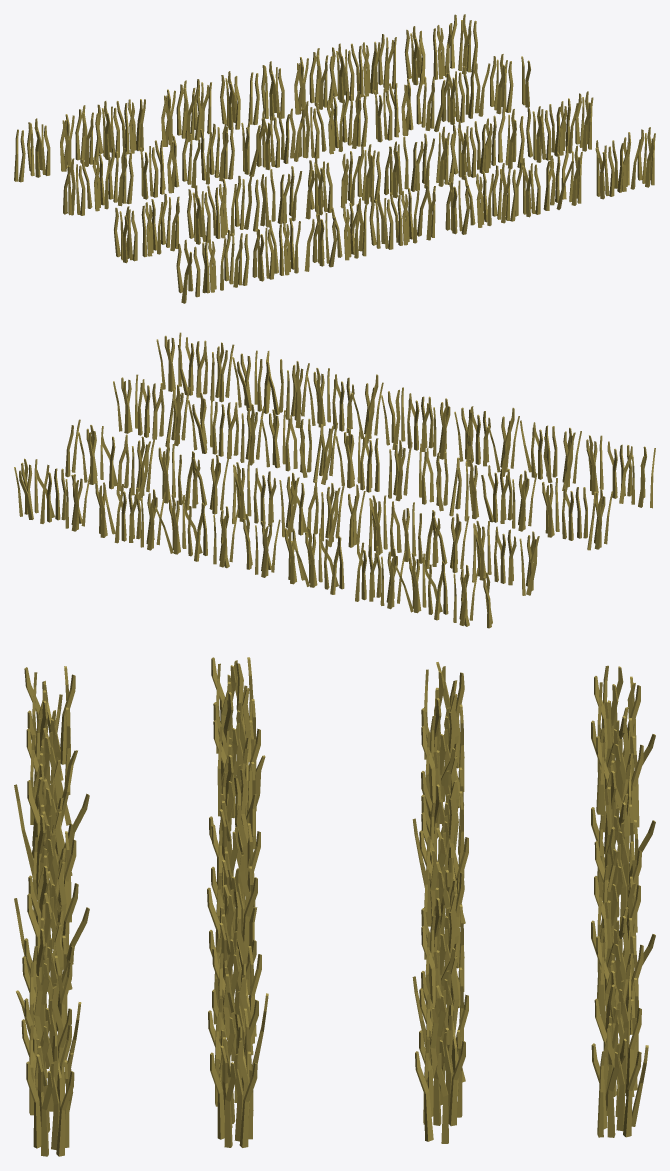
File: Farm_FirstAge_Level2_Wheat.glb
3 renders of one model, top to bottom at view 1: azimuth 30°, elevation 25°; view 2: azimuth 150°, elevation 25°; view 3: azimuth 270°, elevation 25°, orthographic. The views are drawn at different scales.
Visible parts, largest first — view 1: Farm_FirstAge_Level2_Wheat; view 2: Farm_FirstAge_Level2_Wheat; view 3: Farm_FirstAge_Level2_Wheat.
Part boxes in pixels (x1,y1,x2,y2): Farm_FirstAge_Level2_Wheat: (14,14,655,303); Farm_FirstAge_Level2_Wheat: (14,332,655,628); Farm_FirstAge_Level2_Wheat: (14,657,655,1156).
Bounding box in the file's own units: 1.68 × 0.1883 × 1.1.
